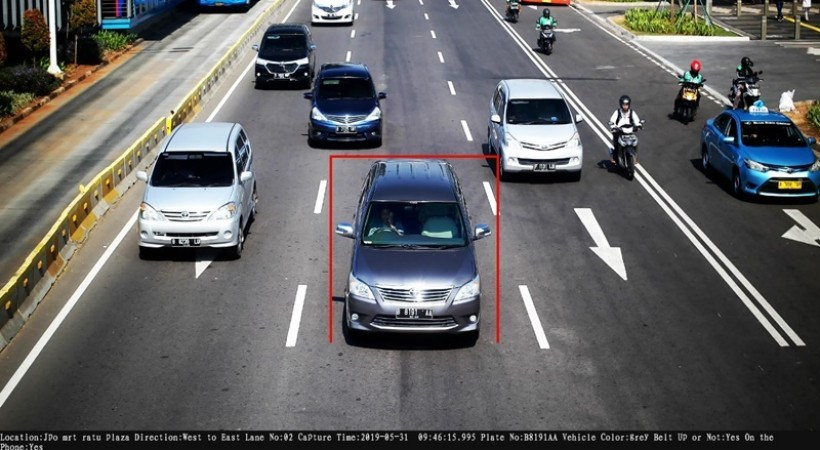car: (337, 156, 490, 352), (136, 115, 256, 262), (699, 103, 820, 206), (491, 75, 585, 184), (307, 62, 385, 146), (253, 24, 317, 90)
motorbike: (609, 92, 640, 180), (674, 60, 705, 126), (727, 58, 758, 114), (539, 8, 556, 58)
